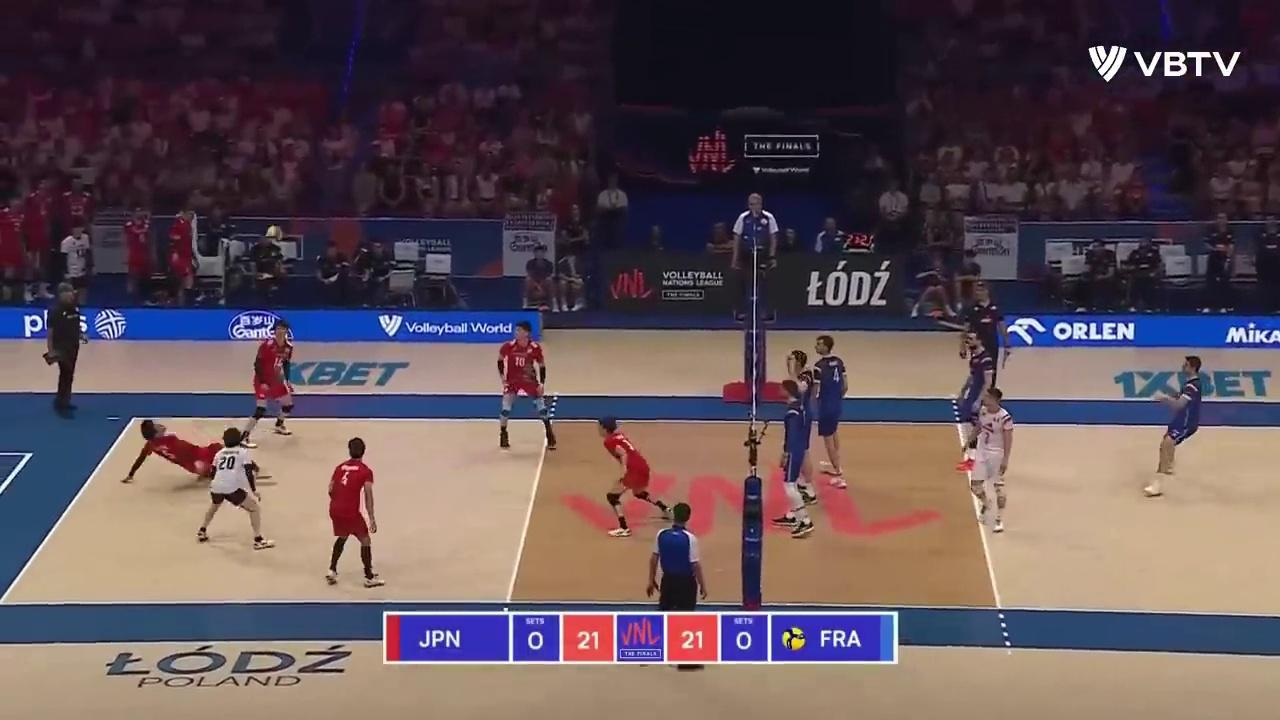ball: (264, 225, 285, 243)
